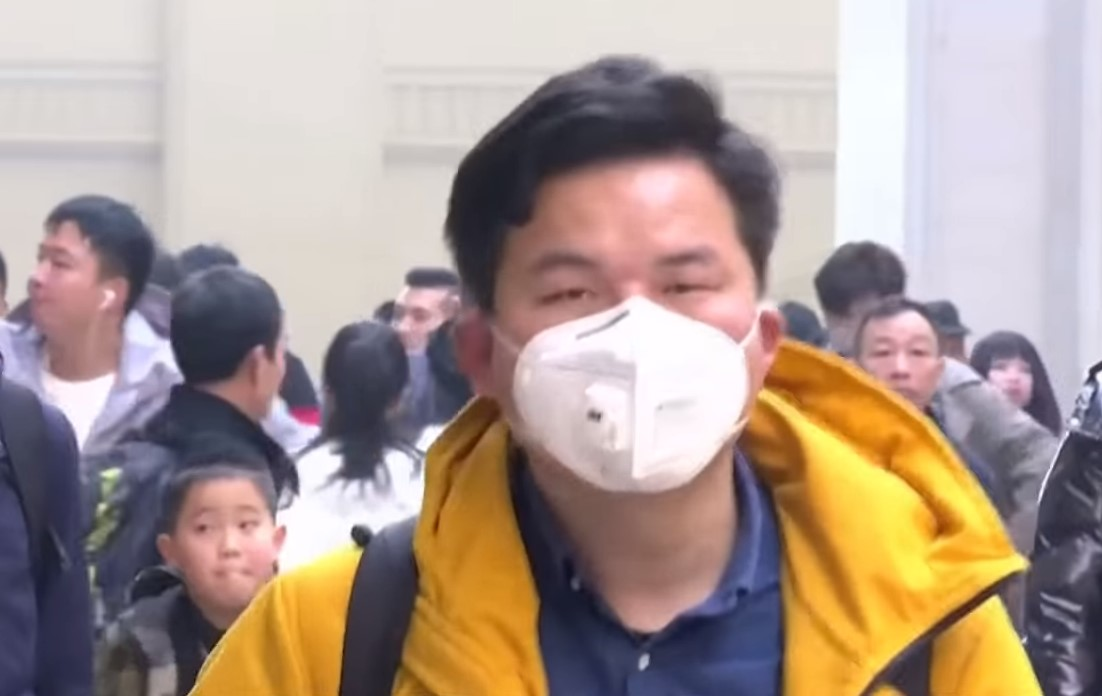face_no_mask: (23, 195, 155, 336), (157, 468, 286, 607), (853, 297, 939, 406), (381, 264, 456, 354), (974, 330, 1054, 411)
face_with_mask: (456, 80, 781, 494)
